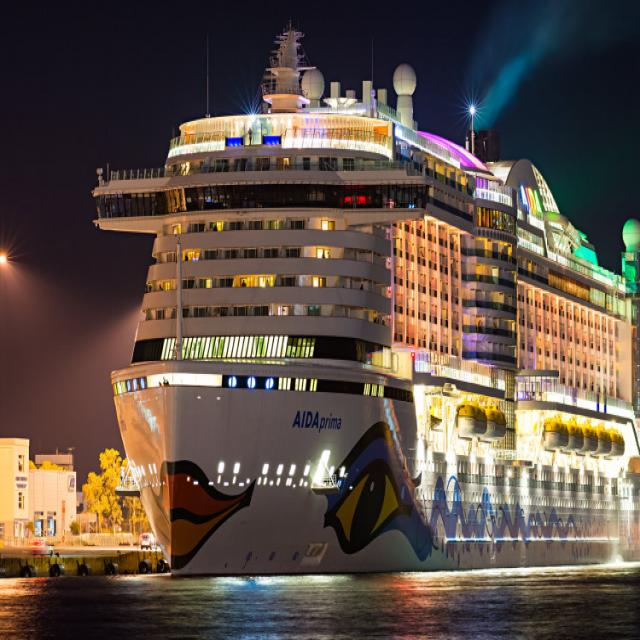cruises: (82, 1, 640, 578)
